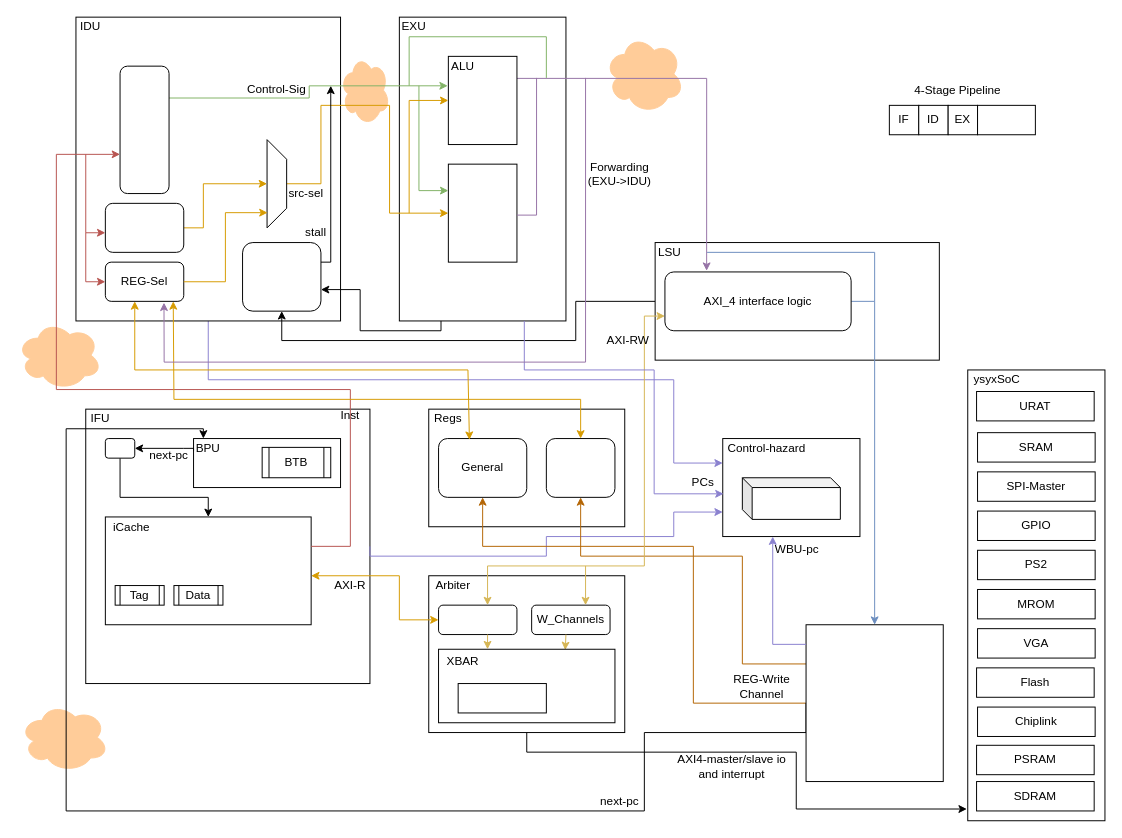
Some shapes in this 1122 by 838 pixel diagram are drawn without their labels. The shapes that lost their labels are listed below. From the top down, each one's box as (x1, y1, x2, y2) in pixels, then its label:
(119, 65, 169, 194): Decoder
(977, 104, 1035, 135): LS+WB
(104, 202, 184, 252): IMM-Gen
(447, 163, 517, 262): BranchUnit
(242, 242, 321, 311): D-hazard
(104, 438, 135, 458): PC
(545, 438, 615, 497): CSR
(741, 477, 840, 519): flush-pipeline
(438, 604, 517, 635): R_Channels
(457, 683, 546, 713): CLINT
(805, 624, 943, 782): WBU
